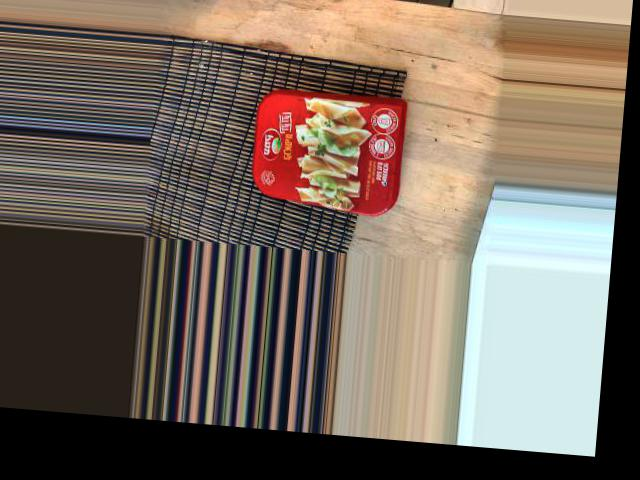cheese: (258, 89, 432, 211)
